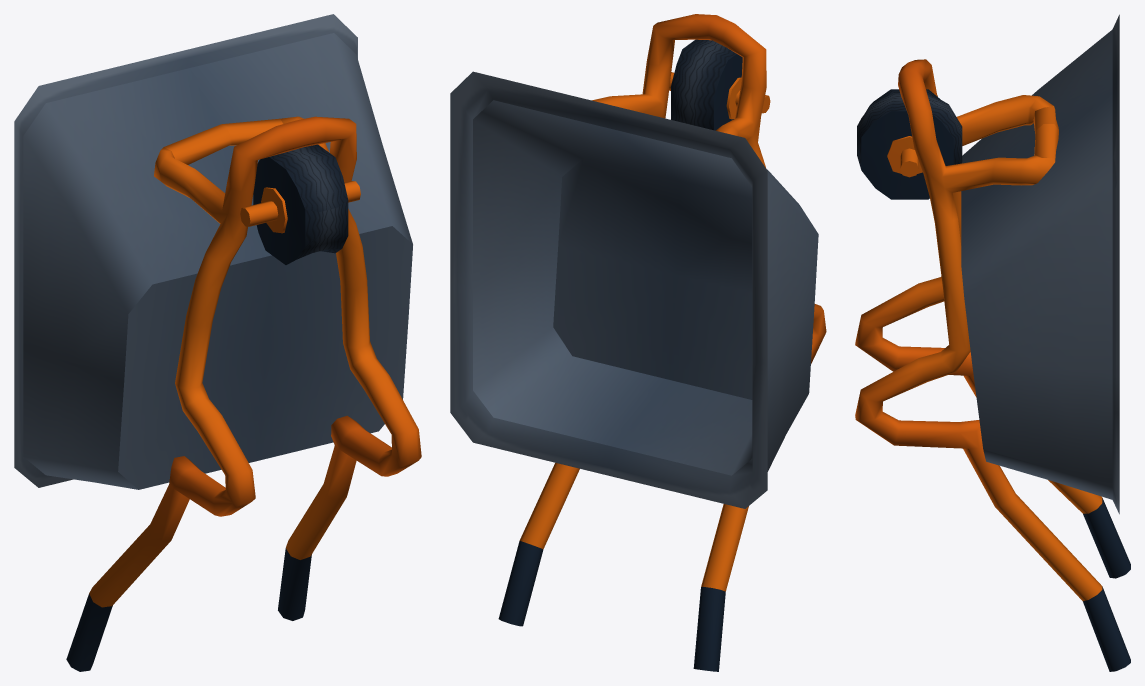
Rendered from SM_wheelbarrow.fbx.
3 renders of one model, left to right at view 1: azimuth 30°, elevation 25°; view 2: azimuth 150°, elevation 25°; view 3: azimuth 270°, elevation 25°, orthographic. The views are drawn at different scales.
Visible parts, largest first — view 1: wheelbarrow; view 2: wheelbarrow; view 3: wheelbarrow.
Boxes of the visible parts, box(x1,y1,x2,y2) form: wheelbarrow: box(14, 14, 421, 671); wheelbarrow: box(450, 14, 826, 671); wheelbarrow: box(855, 14, 1130, 671).
Size of the model in its own units: 174 by 291 by 131.
